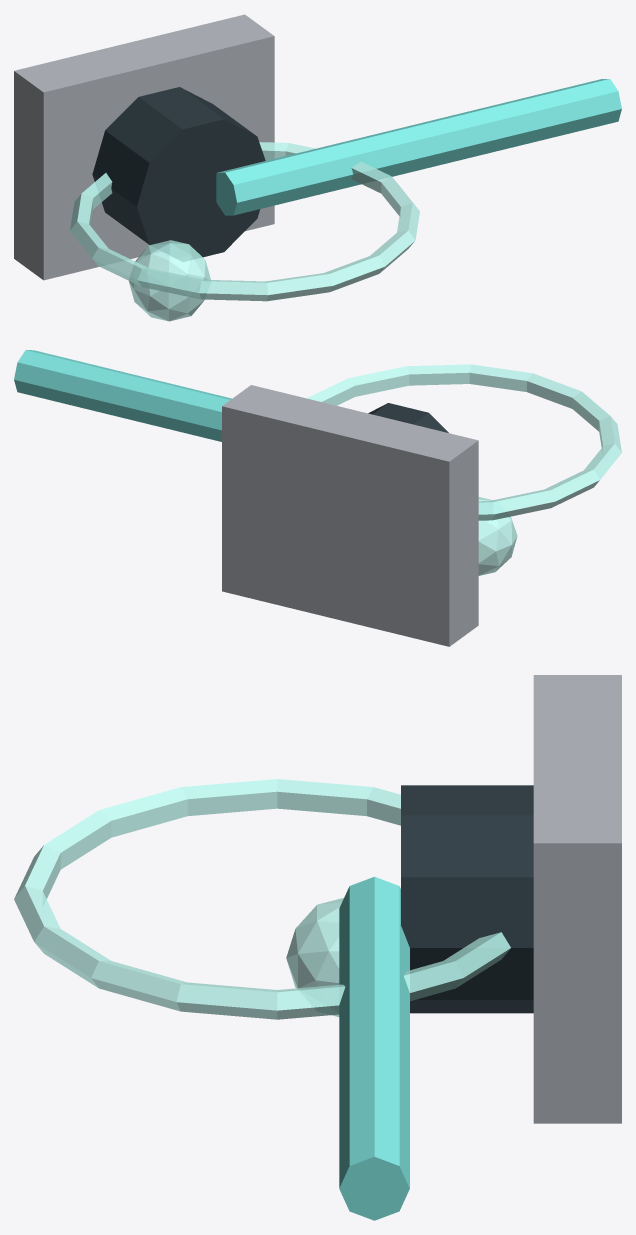
The model's file is 09_skyship_defense.glb.
3 views of the same model, one above another, from view 1: azimuth 30°, elevation 25°; view 2: azimuth 150°, elevation 25°; view 3: azimuth 270°, elevation 25° (orthographic). The views are drawn at different scales.
Parts seen in each view (by area): view 1: weapon_mount_base, turret_pivot, cannon_barrel, shield_projector_ring, targeting_core; view 2: weapon_mount_base, shield_projector_ring, cannon_barrel, targeting_core, turret_pivot; view 3: weapon_mount_base, turret_pivot, shield_projector_ring, cannon_barrel, targeting_core.
Boxes of the visible parts, left/top/right/bottom form: weapon_mount_base: left=14, top=14, right=274, bottom=280; turret_pivot: left=92, top=87, right=265, bottom=261; cannon_barrel: left=216, top=79, right=621, bottom=215; shield_projector_ring: left=70, top=142, right=419, bottom=301; targeting_core: left=129, top=240, right=210, bottom=321; weapon_mount_base: left=222, top=385, right=478, bottom=646; shield_projector_ring: left=307, top=364, right=621, bottom=520; cannon_barrel: left=14, top=350, right=231, bottom=441; targeting_core: left=478, top=497, right=517, bottom=575; turret_pivot: left=368, top=403, right=448, bottom=432; weapon_mount_base: left=533, top=675, right=621, bottom=1123; turret_pivot: left=401, top=785, right=533, bottom=1013; shield_projector_ring: left=14, top=779, right=510, bottom=1019; cannon_barrel: left=339, top=876, right=409, bottom=1220; targeting_core: left=286, top=898, right=343, bottom=1016.
Size of the model in its own units: 0.7726 by 0.2628 by 0.4954.
